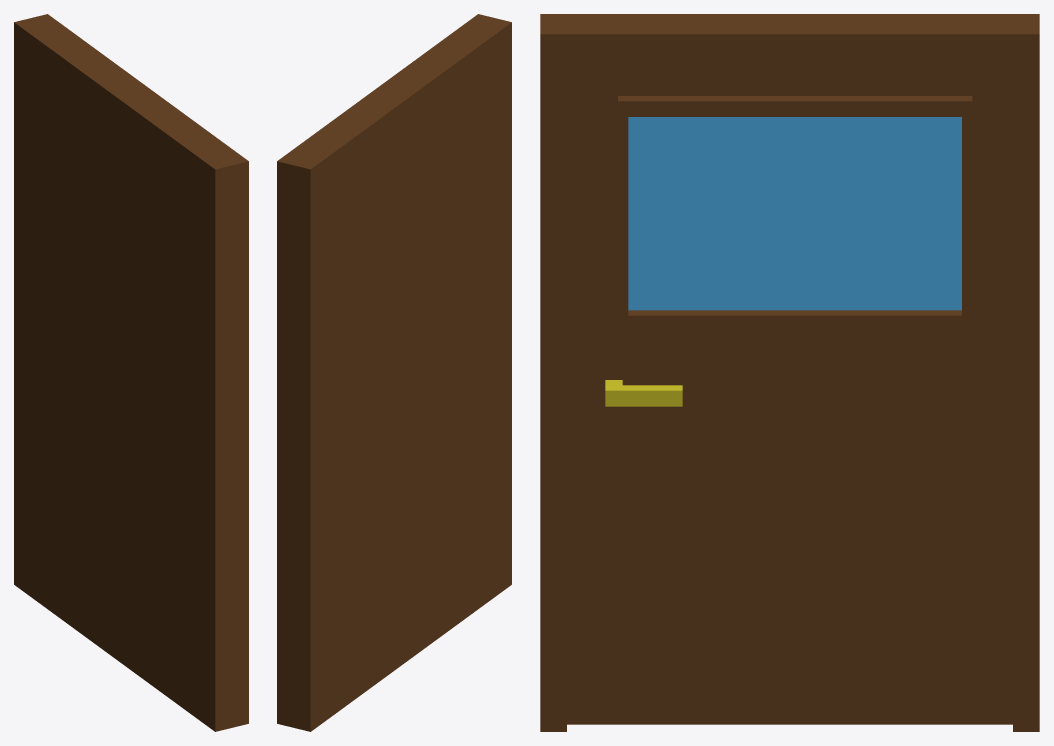
File: Puerta.fbx
3 views of the same model, side by side, from view 1: azimuth 30°, elevation 25°; view 2: azimuth 150°, elevation 25°; view 3: azimuth 270°, elevation 25° (orthographic). The views are drawn at different scales.
Visible parts, largest first — view 1: Cube.001; view 2: Cube.001; view 3: Cube.001.
Boxes of the visible parts, x1,y1,x2,y2 form: Cube.001: [14, 14, 248, 731]; Cube.001: [277, 14, 511, 731]; Cube.001: [540, 14, 1039, 731].
Size of the model in its own units: 85.17 by 1158 by 751.
